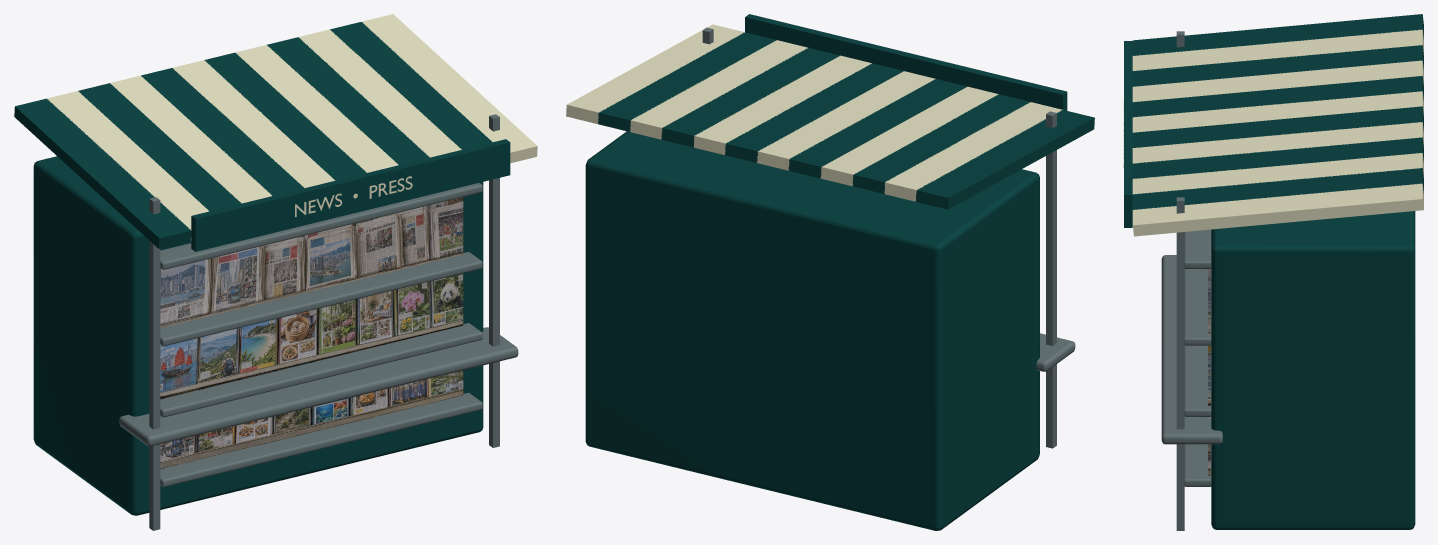
Rendered from news-kiosk.glb.
3 renders of one model, left to right at view 1: azimuth 30°, elevation 25°; view 2: azimuth 150°, elevation 25°; view 3: azimuth 270°, elevation 25°, orthographic.
Parts seen in each view (by area): view 1: news-kiosk_Body.001; view 2: news-kiosk_Body.001; view 3: news-kiosk_Body.001.
Part boxes in pixels (<box>): news-kiosk_Body.001: <box>14,14,537,530</box>; news-kiosk_Body.001: <box>566,14,1094,530</box>; news-kiosk_Body.001: <box>1123,14,1423,530</box>.
Size of the model in its own units: 3.01 by 2.57 by 2.07.
Materials: 4 (1 with a texture image).
